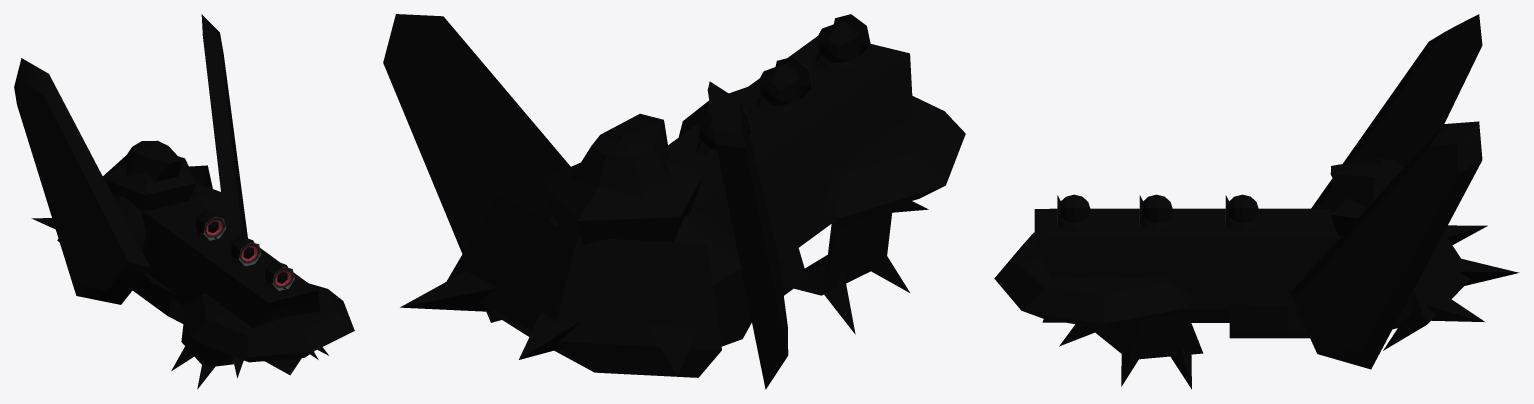
The model's file is DroneDestroyer.fbx.
The picture shows the model from 3 angles, left to right: view 1: azimuth 30°, elevation 25°; view 2: azimuth 150°, elevation 25°; view 3: azimuth 270°, elevation 25°; orthographic projection. The views are drawn at different scales.
Visible parts, largest first — view 1: polySurface74, polySurface75, polySurface76, polySurface78, polySurface79, polySurface80, polySurface81, polySurface73, polySurface64, polySurface38; view 2: polySurface74, polySurface76, polySurface75, polySurface78, polySurface80, polySurface79, polySurface81; view 3: polySurface74, polySurface76, polySurface75, polySurface78, polySurface80, polySurface79, polySurface81.
Part boxes in pixels (<box>): polySurface74: <box>31,141,354,389</box>; polySurface75: <box>14,58,150,304</box>; polySurface76: <box>201,14,247,238</box>; polySurface78: <box>120,140,182,181</box>; polySurface79: <box>231,236,258,265</box>; polySurface80: <box>265,260,290,290</box>; polySurface81: <box>196,210,223,238</box>; polySurface73: <box>203,216,226,240</box>; polySurface64: <box>272,267,294,290</box>; polySurface38: <box>239,242,261,266</box>; polySurface74: <box>400,35,965,377</box>; polySurface76: <box>383,14,570,322</box>; polySurface75: <box>707,81,788,389</box>; polySurface78: <box>570,113,675,198</box>; polySurface80: <box>818,14,870,63</box>; polySurface79: <box>760,57,812,105</box>; polySurface81: <box>699,110,751,150</box>; polySurface74: <box>994,160,1519,389</box>; polySurface76: <box>1290,121,1482,369</box>; polySurface75: <box>1311,14,1482,208</box>; polySurface78: <box>1330,158,1403,207</box>; polySurface80: <box>1057,194,1090,225</box>; polySurface79: <box>1140,194,1172,225</box>; polySurface81: <box>1226,194,1258,225</box>.
Size of the model in its own units: 350 by 380 by 630.
